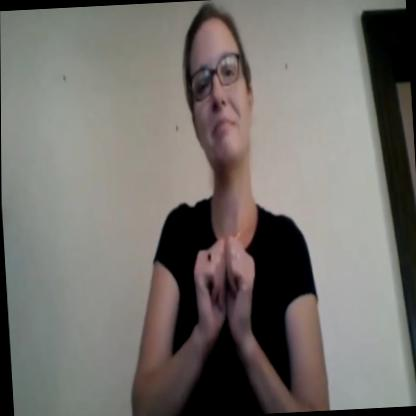HowAreYou: (186, 222, 265, 362)
